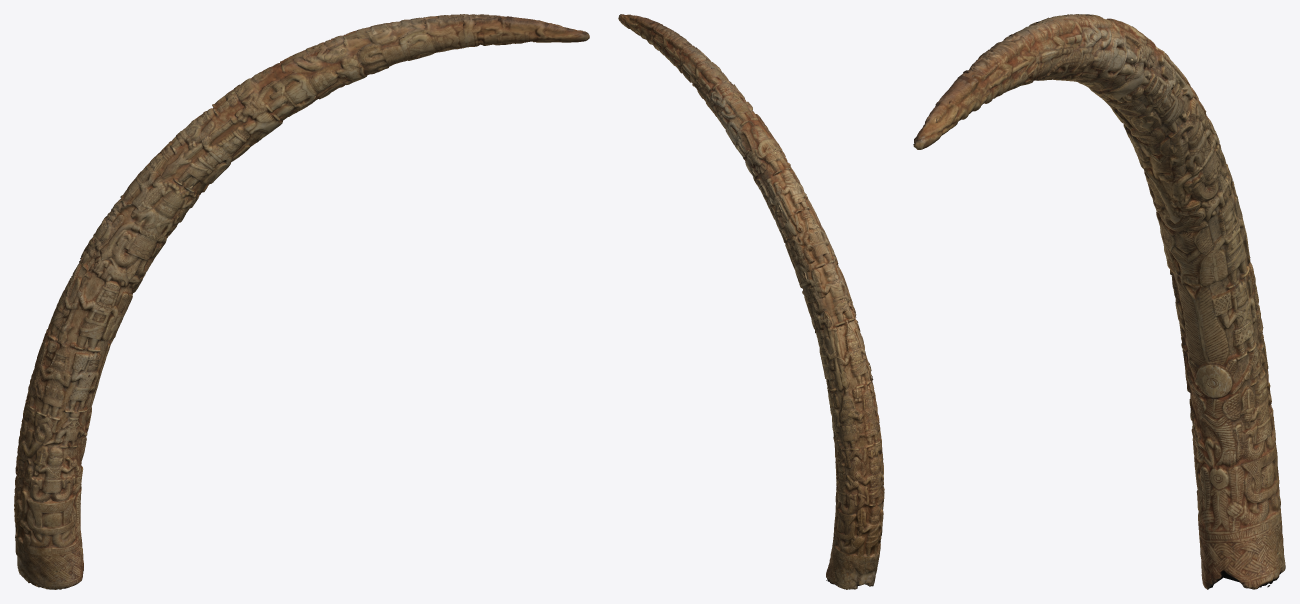
Rendered from preview.glb.
3 views of the same model, side by side, from view 1: azimuth 30°, elevation 25°; view 2: azimuth 150°, elevation 25°; view 3: azimuth 270°, elevation 25° (orthographic). The views are drawn at different scales.
Parts seen in each view (by area): view 1: Object_2; view 2: Object_2; view 3: Object_2.
Boxes of the visible parts, x1,y1,x2,y2 form: Object_2: [14, 14, 589, 589]; Object_2: [618, 14, 884, 589]; Object_2: [913, 14, 1285, 589].
Size of the model in its own units: 1.36 by 1.6 by 0.729.
1 material, 1 textured.
